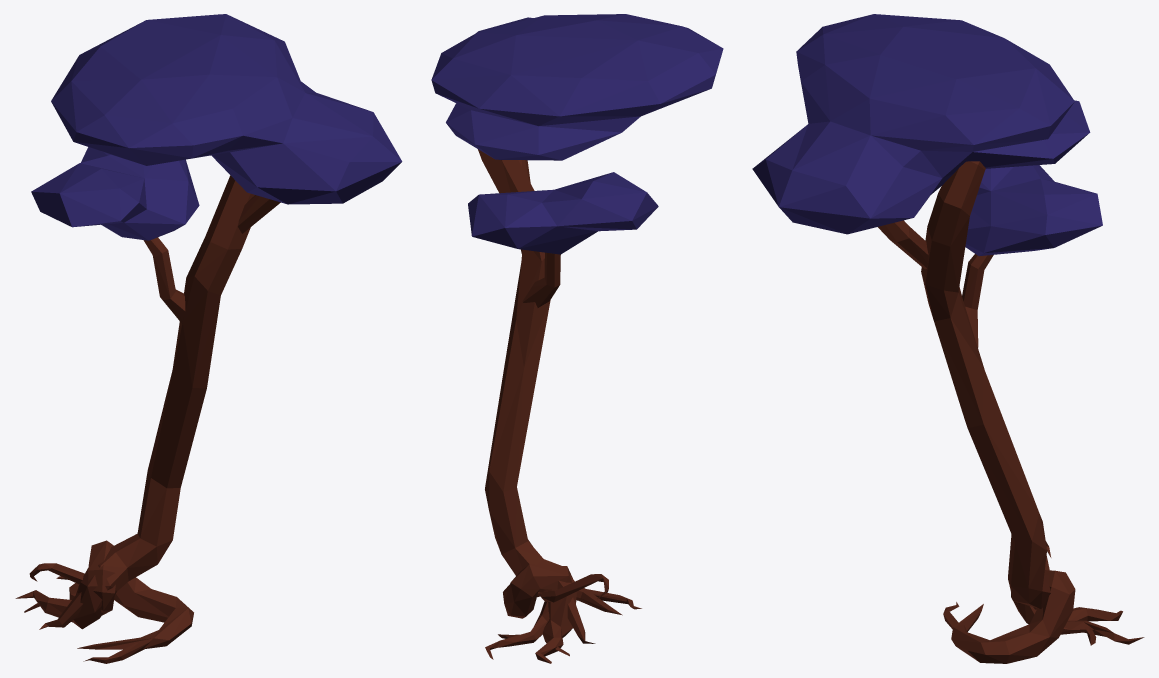
Rendered from arbol2.obj.
The picture shows the model from 3 angles, left to right: view 1: azimuth 30°, elevation 25°; view 2: azimuth 150°, elevation 25°; view 3: azimuth 270°, elevation 25°; orthographic projection. The views are drawn at different scales.
Parts seen in each view (by area): view 1: Mball.006, NurbsPath.001; view 2: Mball.006, NurbsPath.001; view 3: Mball.006, NurbsPath.001.
Part boxes in pixels (bbox=[...]): Mball.006: bbox=[31, 14, 402, 240]; NurbsPath.001: bbox=[15, 175, 280, 663]; Mball.006: bbox=[431, 14, 723, 254]; NurbsPath.001: bbox=[478, 149, 641, 663]; Mball.006: bbox=[752, 14, 1102, 256]; NurbsPath.001: bbox=[878, 161, 1144, 663].
Size of the model in its own units: 4.21 by 8.19 by 4.86.
